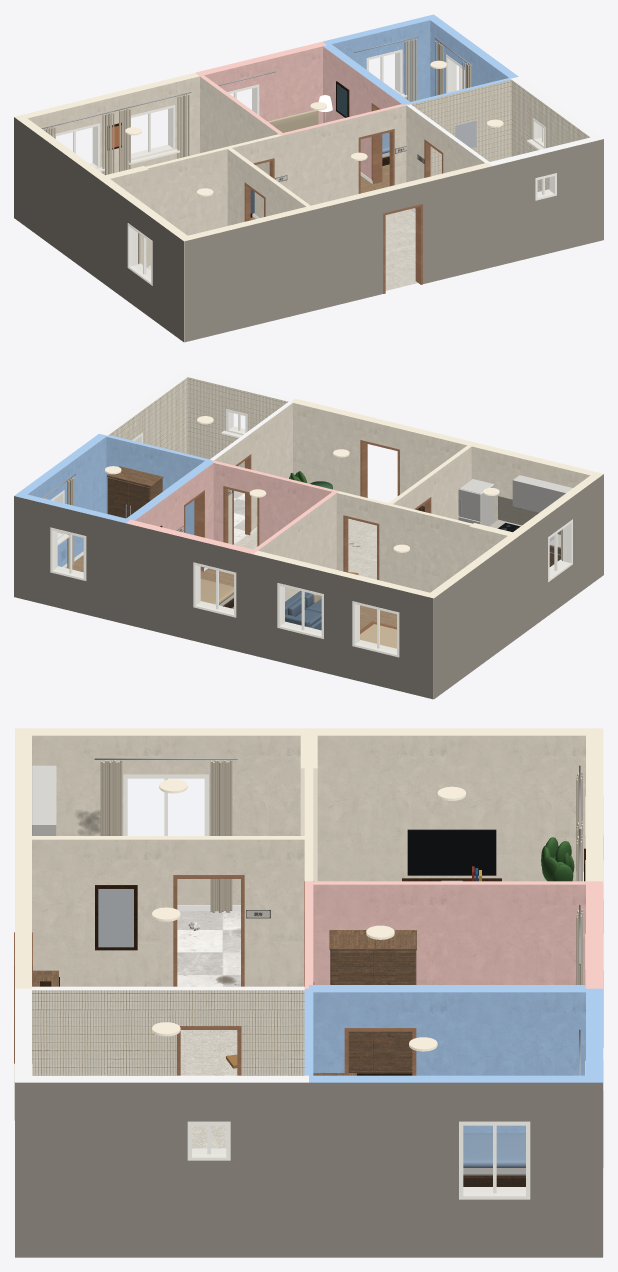
Rendered from renovate.glb.
3 renders of one model, top to bottom at view 1: azimuth 30°, elevation 25°; view 2: azimuth 150°, elevation 25°; view 3: azimuth 270°, elevation 25°, orthographic. The views are drawn at different scales.
Bounding box in the file's own units: 11.76 × 2.72 × 8.26.
142 materials, 62 textured.
